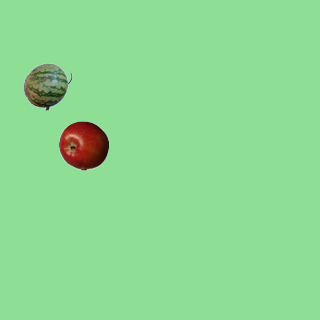Apple Braeburn: (58, 120, 108, 170)
Watermelon: (22, 61, 72, 111)
